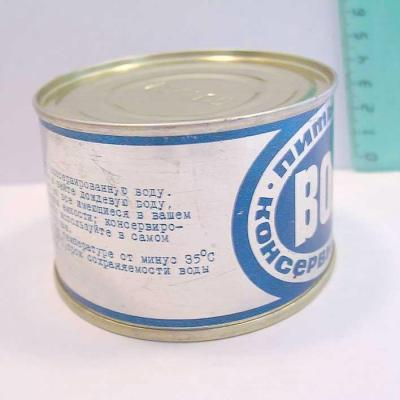other: (32, 49, 337, 345)
